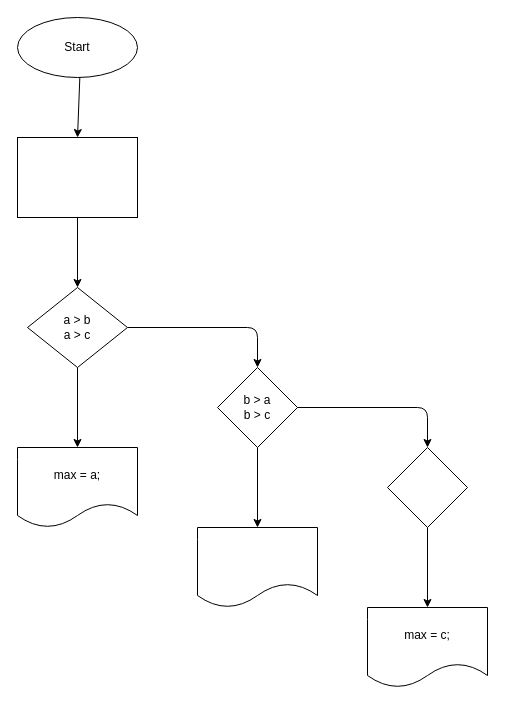
Image size: 505x705. Some labels were removed from this diagram. Here are the shapes that lost their labels. From the top down, the centre of each, then its label:
At [77,177]: "int a; int b; int c;".
At [427,487]: "c > a c > b".
At [257,567]: "max = b;".
